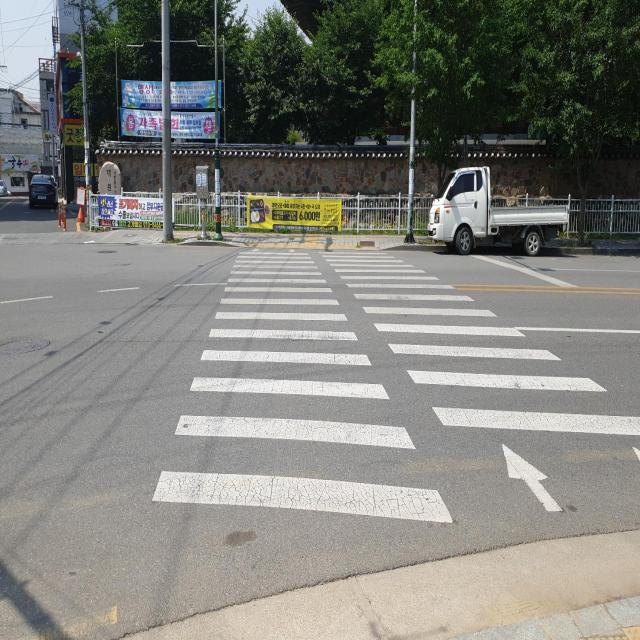횡단보도: (148, 242, 640, 530)
